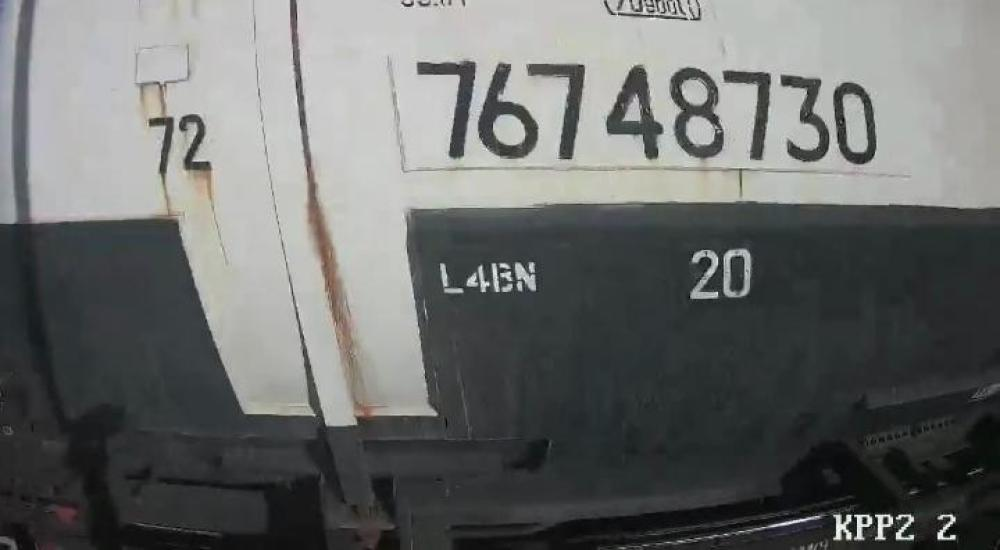Wagon-number: (413, 57, 882, 172)
